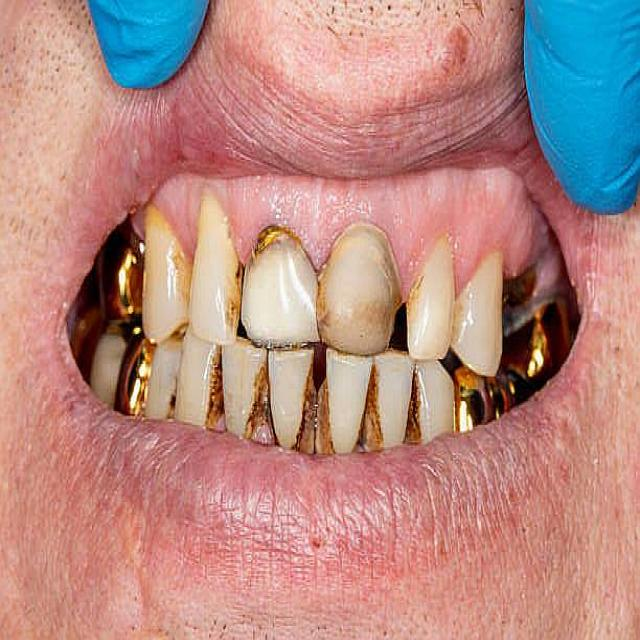caries: (492, 257, 541, 342)
